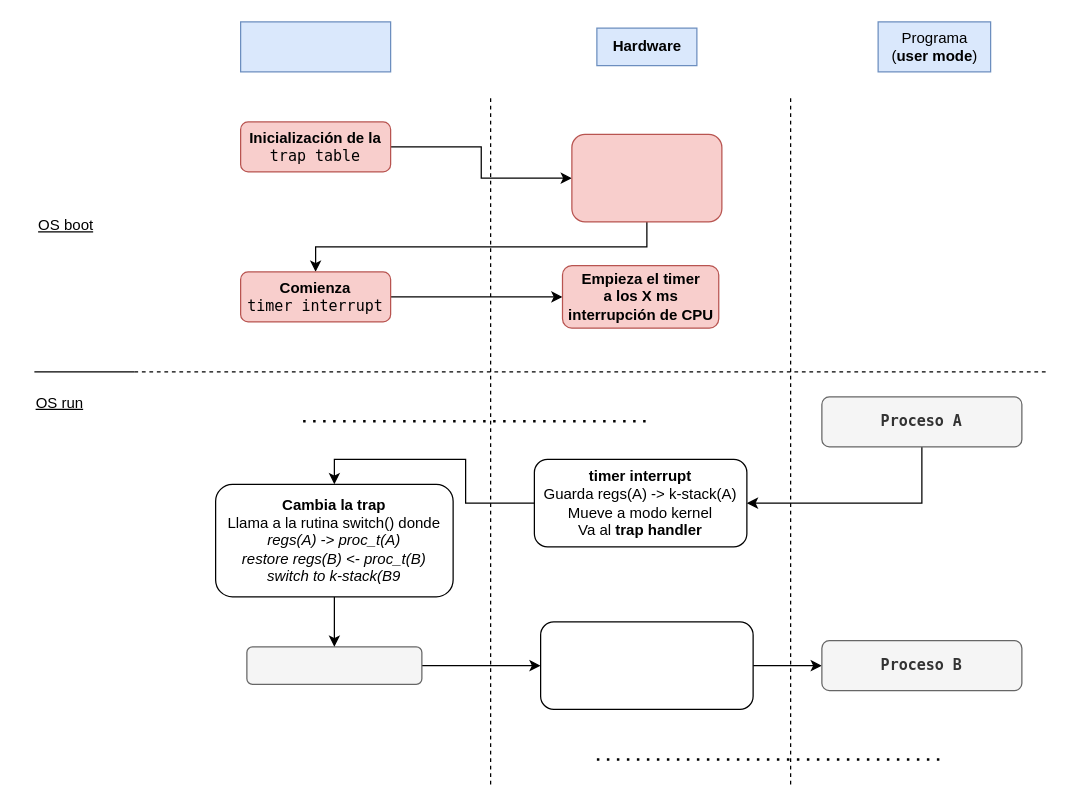
This 1070x808 diagram has some shape labels left out. Here are the shapes that lost their labels. From the top down, the centre of each, then its label:
At [315,46]: "Sistema Operativo ( kernel mode )".
At [646,177]: "Recordar dirección para el syscall handler timer handler".
At [334,665]: "return from trap".
At [646,665]: "Restaura regs(B) <- k-stack(B) Mueve a modo usuario Va al PC del proceso B".
